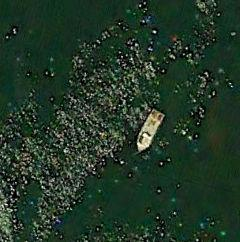Ships: (134, 106, 168, 161)
